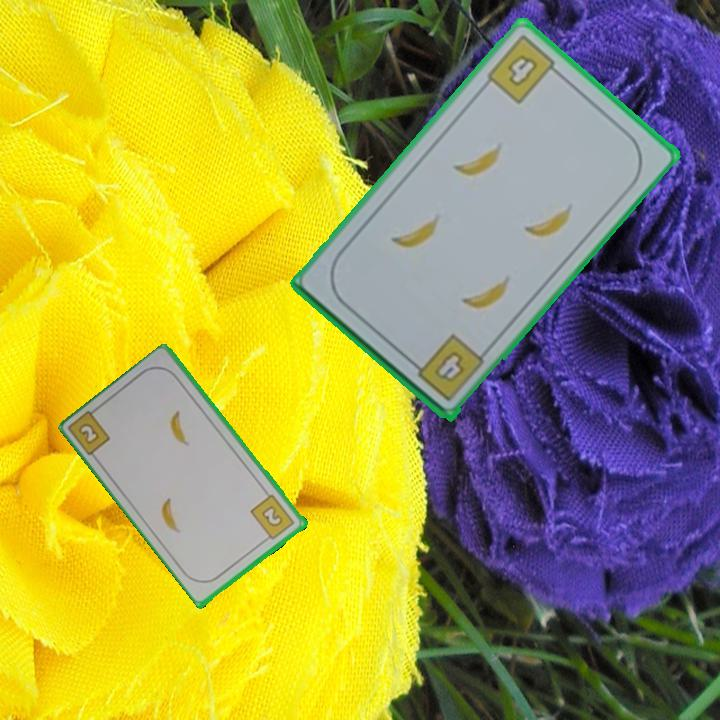2b: (247, 491, 298, 543), (75, 419, 102, 447)
4b: (483, 31, 565, 107), (406, 330, 487, 404)
